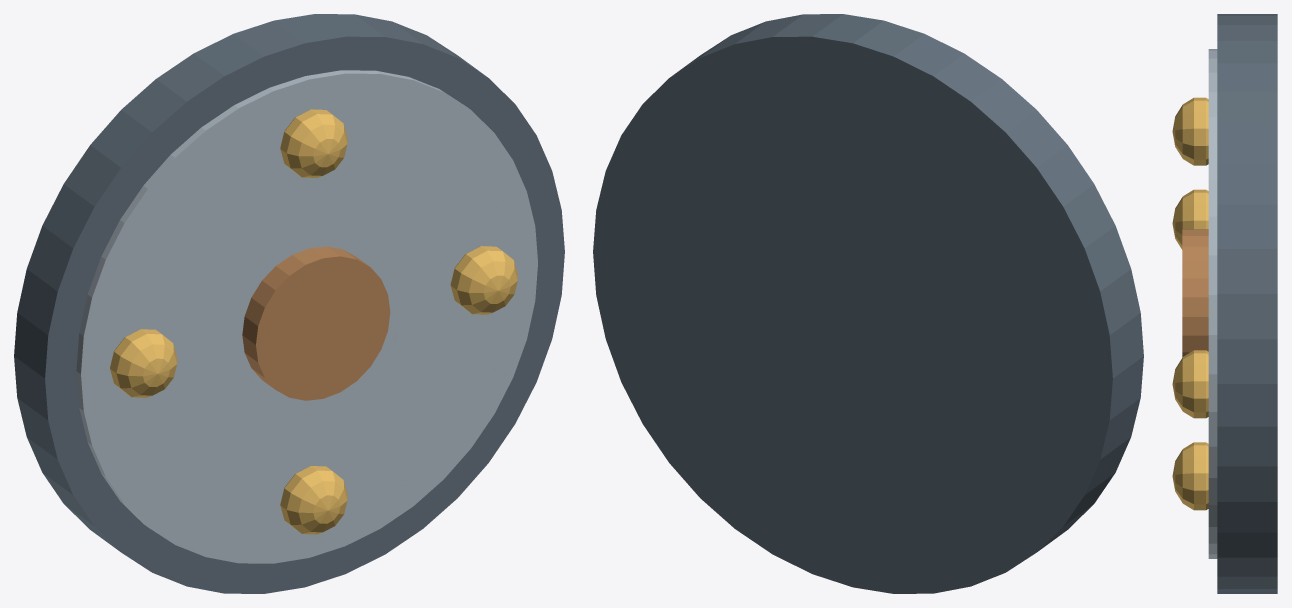
Rendered from dhal.glb.
3 views of the same model, side by side, from view 1: azimuth 30°, elevation 25°; view 2: azimuth 150°, elevation 25°; view 3: azimuth 270°, elevation 25° (orthographic). The views are drawn at different scales.
Visible parts, largest first — view 1: Dhal; view 2: Dhal; view 3: Dhal.
Part boxes in pixels (x1,y1,x2,y2): Dhal: (14, 14, 564, 593); Dhal: (593, 14, 1143, 593); Dhal: (1172, 14, 1277, 593).
Size of the model in its own units: 1.16 by 1.16 by 0.21.
